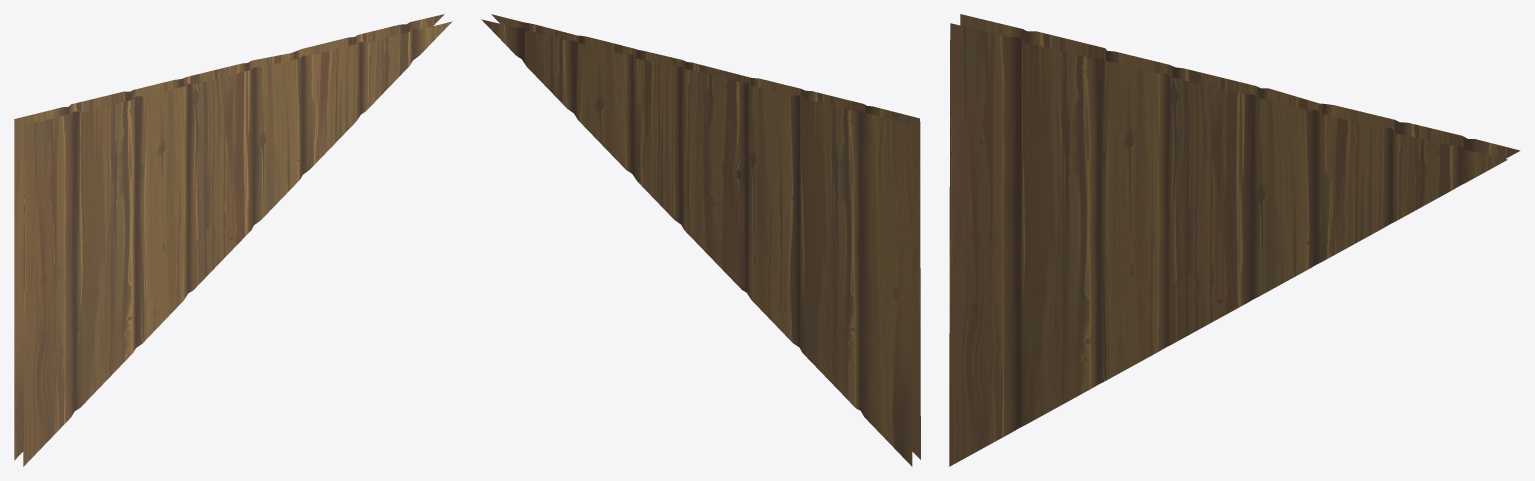
Rendered from SM_MOD_wall_sloped_inverted_planks_vert_town.fbx.
3 views of the same model, side by side, from view 1: azimuth 30°, elevation 25°; view 2: azimuth 150°, elevation 25°; view 3: azimuth 330°, elevation 25° (orthographic). The views are drawn at different scales.
Visible parts, largest first — view 1: SM_MOD_wall_sloped_inverted_planks_vert_town; view 2: SM_MOD_wall_sloped_inverted_planks_vert_town; view 3: SM_MOD_wall_sloped_inverted_planks_vert_town.
Part boxes in pixels (x1,y1,x2,y2): SM_MOD_wall_sloped_inverted_planks_vert_town: [14, 14, 452, 466]; SM_MOD_wall_sloped_inverted_planks_vert_town: [481, 14, 920, 466]; SM_MOD_wall_sloped_inverted_planks_vert_town: [949, 14, 1520, 466].
Size of the model in its own units: 362 by 275 by 15.12.
